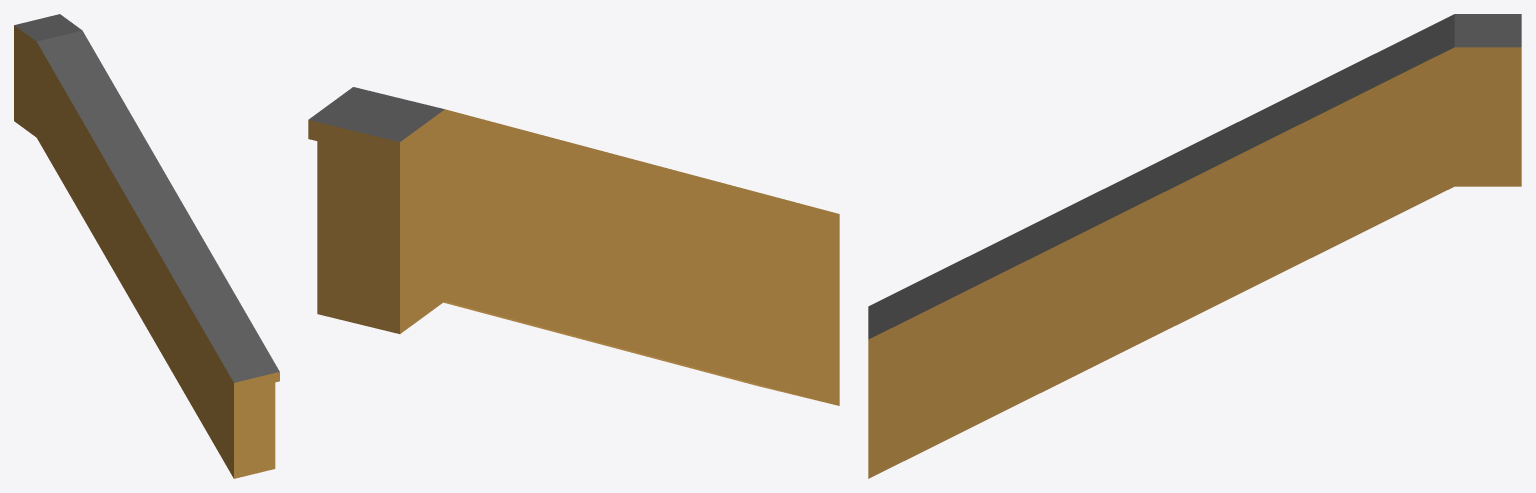
File: Skate_Slide_Rail_01.FBX
The picture shows the model from 3 angles, left to right: view 1: azimuth 30°, elevation 25°; view 2: azimuth 150°, elevation 25°; view 3: azimuth 270°, elevation 25°; orthographic projection. The views are drawn at different scales.
Visible parts, largest first — view 1: Skate_Slide_Rail_01; view 2: Skate_Slide_Rail_01; view 3: Skate_Slide_Rail_01.
Part boxes in pixels (x1,y1,x2,y2): Skate_Slide_Rail_01: (14, 14, 279, 478); Skate_Slide_Rail_01: (308, 87, 839, 405); Skate_Slide_Rail_01: (868, 14, 1521, 478).
Bounding box in the file's own units: 361 × 2205 × 3000.
